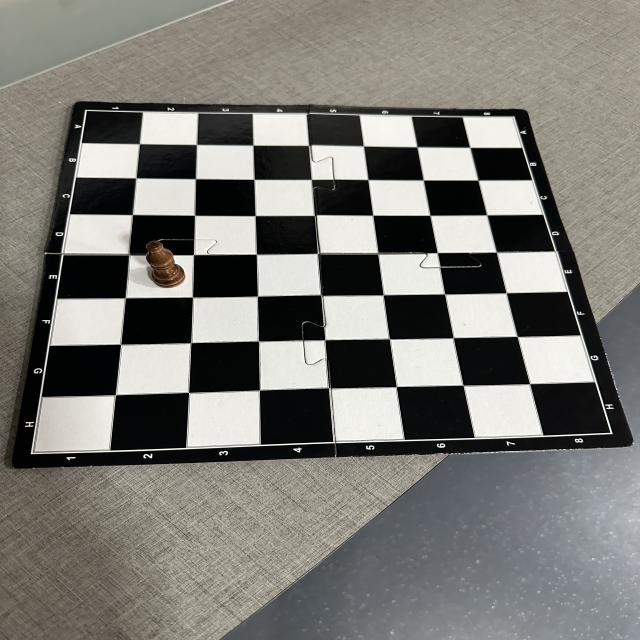Black-Bishop: (146, 240, 187, 288)
